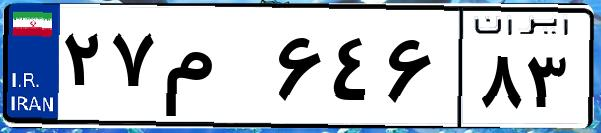2: (57, 26, 110, 100)
3: (525, 38, 570, 115)
4: (330, 28, 385, 110)
6: (270, 28, 330, 110), (385, 28, 445, 110)
7: (110, 28, 158, 98)
8: (475, 38, 525, 113)
م: (158, 20, 270, 120)
